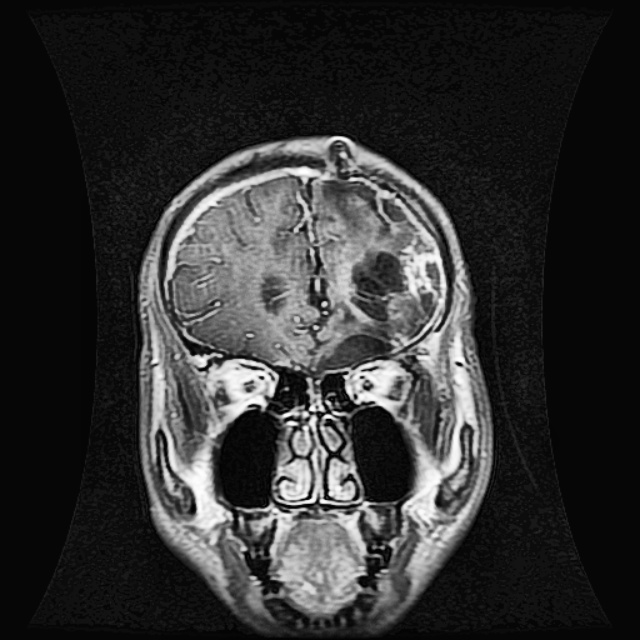Meningioma: (312, 250, 442, 369)
